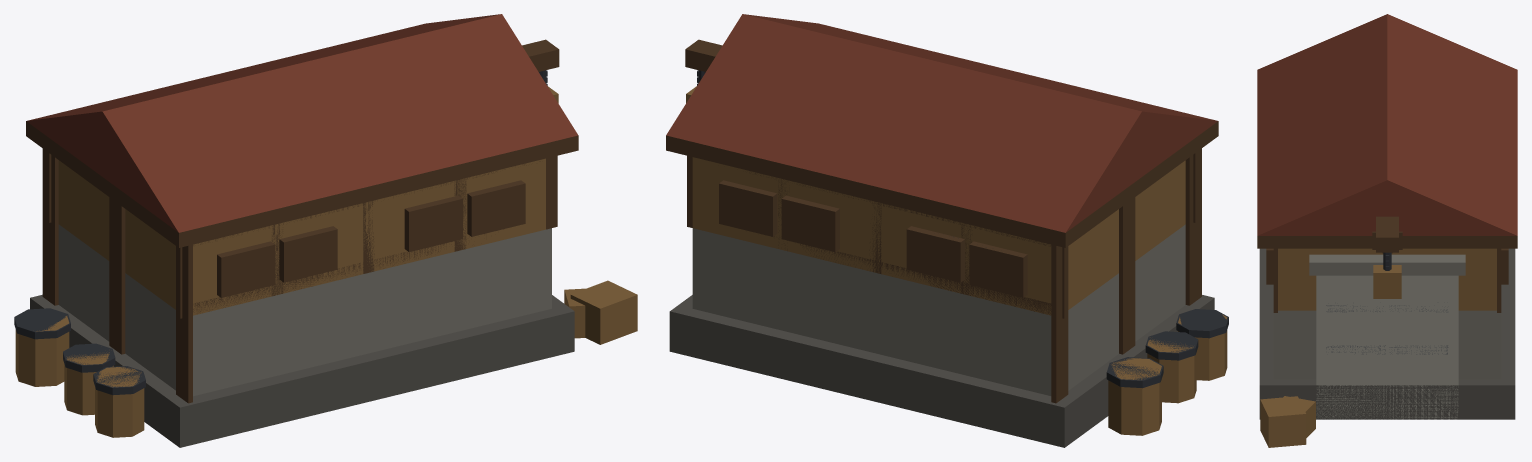
Rendered from storehouse_military.glb.
The picture shows the model from 3 angles, left to right: view 1: azimuth 30°, elevation 25°; view 2: azimuth 150°, elevation 25°; view 3: azimuth 270°, elevation 25°; orthographic projection. The views are drawn at different scales.
Parts seen in each view (by area): view 1: roof_tile, stone, timber_light, timber, stone_dark, iron_dark; view 2: roof_tile, stone, timber, timber_light, stone_dark, iron_dark; view 3: roof_tile, stone_light, stone_dark, stone, timber_light, timber, iron.
Part boxes in pixels (box(x1,y1,x2,y2)): roof_tile: box(26, 14, 578, 232); stone: box(58, 224, 551, 396); timber_light: box(15, 86, 637, 437); timber: box(26, 39, 578, 403); stone_dark: box(30, 294, 574, 447); iron_dark: box(14, 70, 547, 395); roof_tile: box(666, 14, 1217, 232); stone: box(692, 224, 1185, 395); timber: box(666, 39, 1218, 403); timber_light: box(686, 86, 1227, 435); stone_dark: box(669, 295, 1214, 447); iron_dark: box(697, 70, 1228, 388); roof_tile: box(1257, 14, 1517, 235); stone_light: box(1316, 275, 1458, 419); stone_dark: box(1259, 248, 1515, 419); stone: box(1273, 254, 1501, 379); timber_light: box(1260, 248, 1496, 447); timber: box(1257, 216, 1517, 312); iron: box(1326, 305, 1448, 388).
Bounding box in the file's own units: 108 × 56 × 55.
